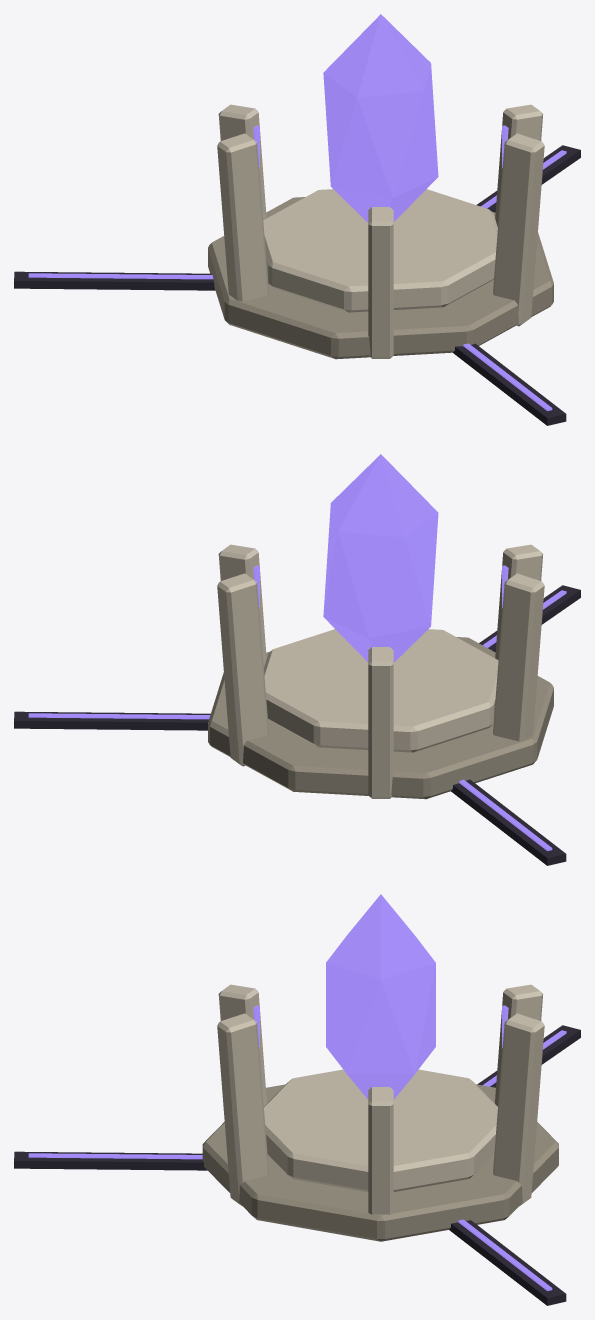
File: exo-gridnode.glb
3 views of the same model, one above another, from view 1: azimuth 30°, elevation 25°; view 2: azimuth 150°, elevation 25°; view 3: azimuth 270°, elevation 25° (orthographic).
Visible parts, largest first — view 1: body; view 2: body; view 3: body.
Boxes of the visible parts, x1,y1,x2,y2 form: body: [14, 14, 580, 425]; body: [14, 454, 580, 865]; body: [14, 894, 580, 1305].
Size of the model in its own units: 8.98 by 4.21 by 7.88.
